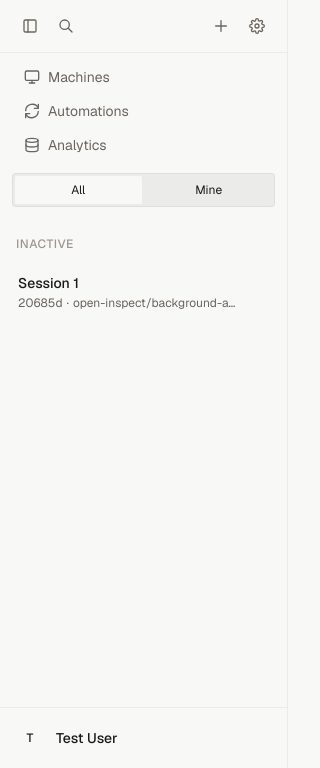
Test: SessionSidebar › filters sessions to the current user when Mine is selected
This screenshot has width=320, height=768.
Check: the text "Session 1" is shown, box [18,273,79,293]
Click the radio button "Mine".
click(209, 190)  # box [146,176,272,204]
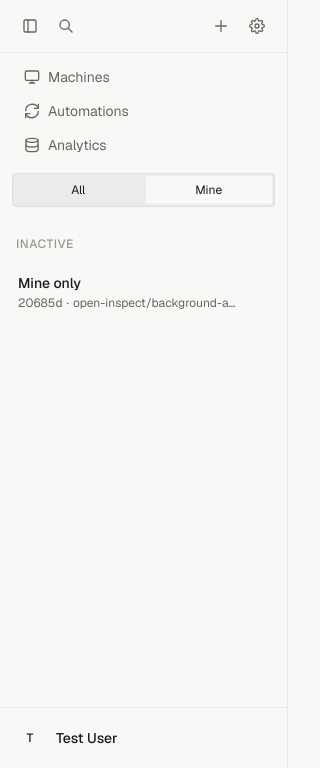
Check: the text "Mine only" is shown, box [18,273,81,293]
Check: the link "Session 1" is gone
